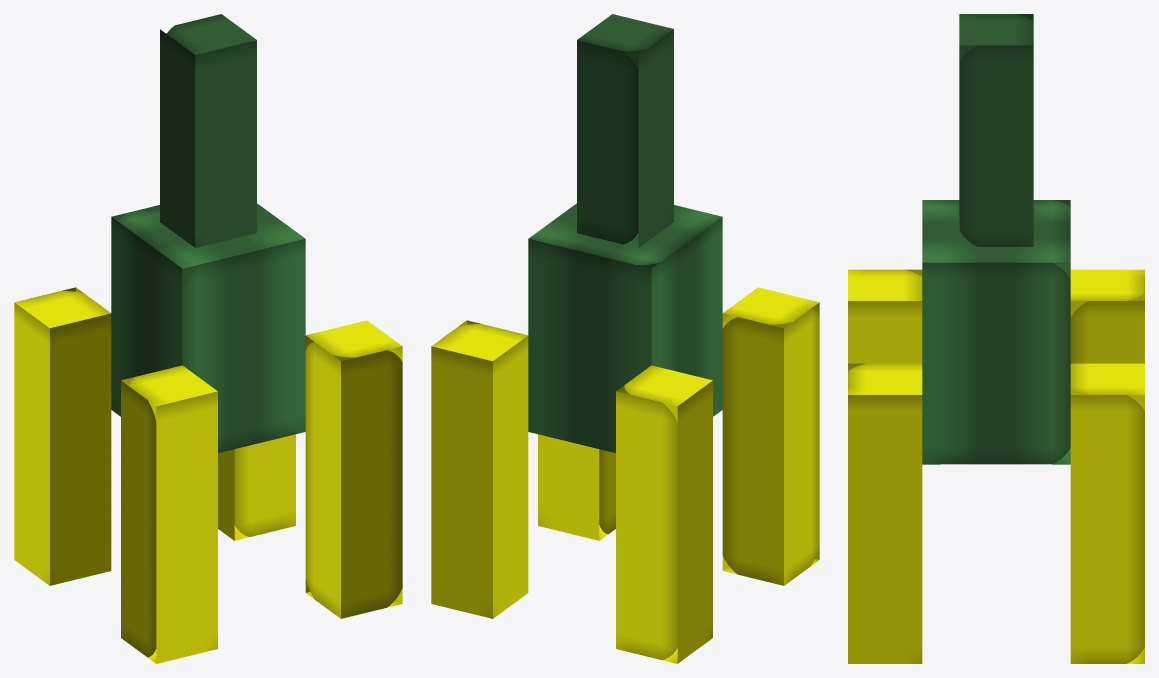
File: missile_head_attraction.obj
The picture shows the model from 3 angles, left to right: view 1: azimuth 30°, elevation 25°; view 2: azimuth 150°, elevation 25°; view 3: azimuth 270°, elevation 25°; orthographic projection. The views are drawn at different scales.
Visible parts, largest first — view 1: Component_8, group_14, group_13; view 2: Component_8, group_14, group_13; view 3: Component_8, group_14, group_13.
Boxes of the visible parts, x1,y1,x2,y2 form: Component_8: [14, 287, 402, 663]; group_14: [111, 203, 305, 453]; group_13: [160, 14, 256, 247]; Component_8: [431, 287, 819, 663]; group_14: [528, 203, 722, 453]; group_13: [577, 14, 673, 247]; Component_8: [848, 269, 1144, 663]; group_14: [922, 200, 1070, 464]; group_13: [959, 14, 1033, 246].
Size of the model in its own units: 50.39 by 107 by 50.39.
